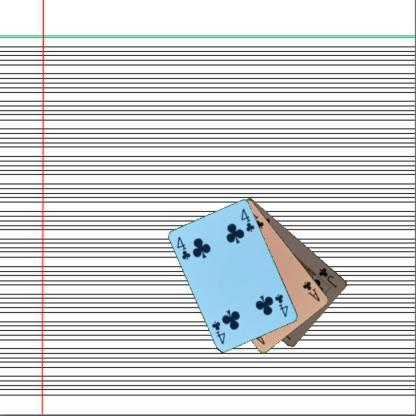4c: (272, 291, 290, 318), (174, 234, 192, 261)
Ac: (300, 279, 322, 303)
Jc: (316, 265, 338, 289)
